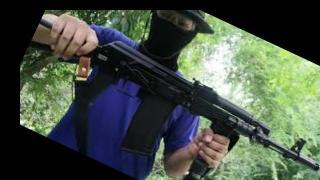larga: (29, 18, 320, 180)
